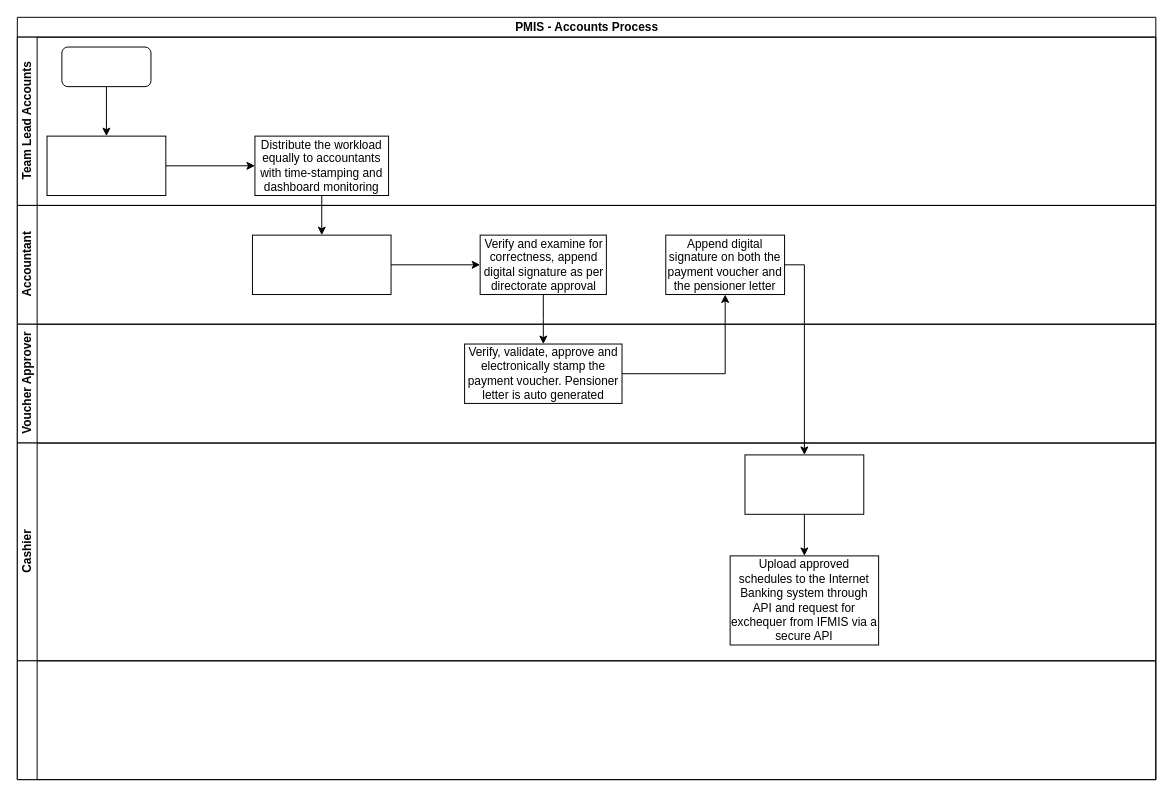
Image size: 1173x797. Some labels were removed from this diagram. The shapes that lost their labels are listed below. From the top down, each one's centre as x and y in pixels, then its label:
pixel 106 66: Start
pixel 106 165: Receive claims payment schedule
pixel 321 264: Generate payment voucher and pensioner letter
pixel 804 484: Receive the electronic file, verify, validate and generate payment schedules
pixel 586 720: Pensioner
